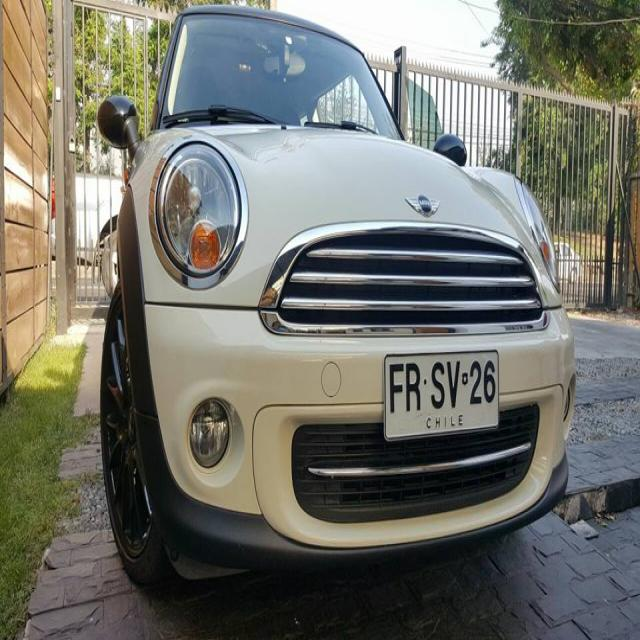patente: (382, 348, 499, 441)
